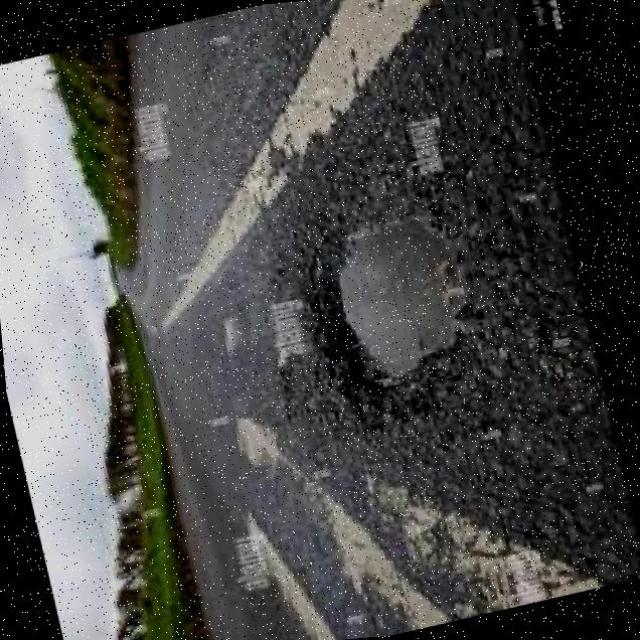pothole: (311, 219, 483, 388)
